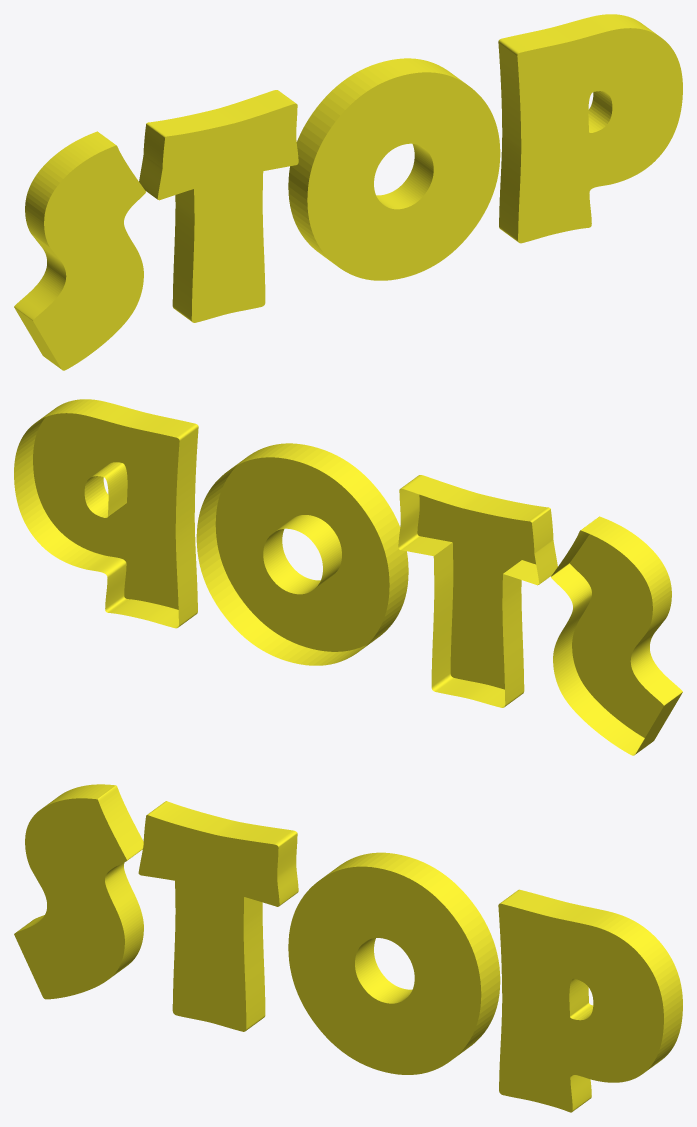
3 views of the same model, one above another, from view 1: azimuth 30°, elevation 25°; view 2: azimuth 150°, elevation 25°; view 3: azimuth 330°, elevation 25° (orthographic).
Visible parts, largest first — view 1: Text 1; view 2: Text 1; view 3: Text 1.
Part boxes in pixels (left/top/right/bottom): Text 1: left=14, top=14, right=682, bottom=370; Text 1: left=14, top=399, right=682, bottom=755; Text 1: left=14, top=784, right=682, bottom=1112.
Size of the model in its own units: 1.97 by 0.6166 by 0.1.
